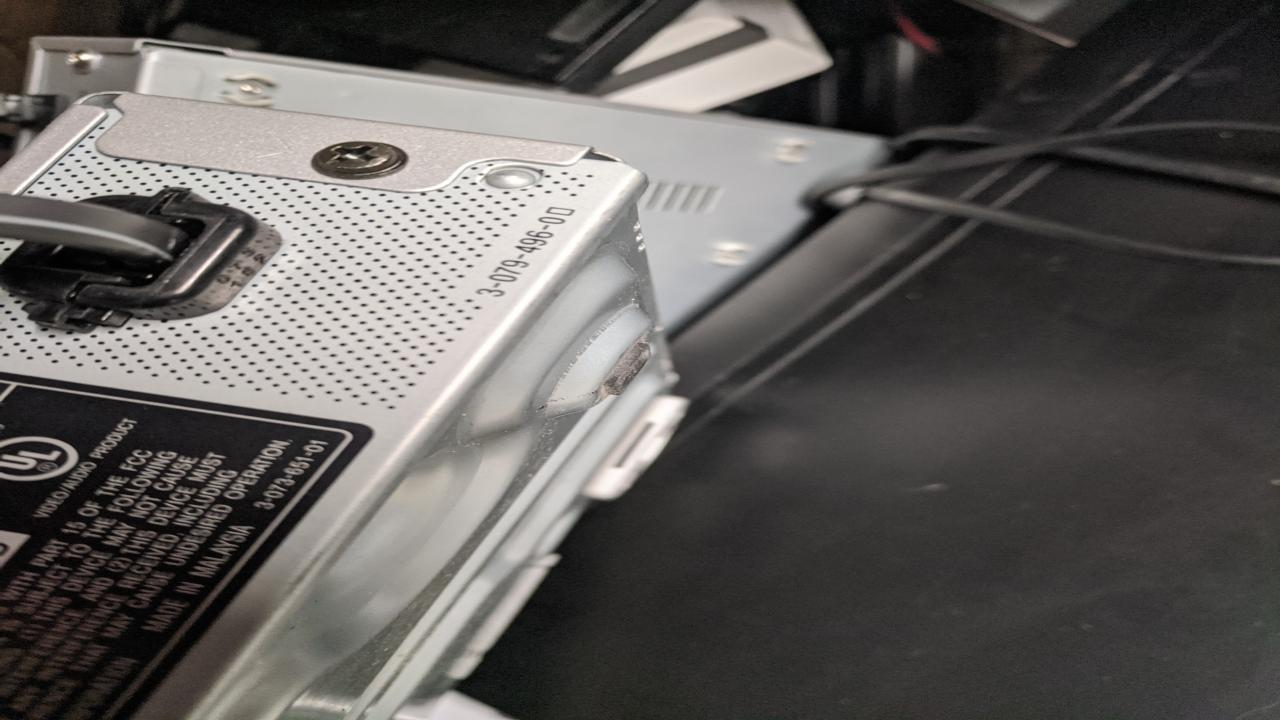CRS: (308, 141, 401, 175)
